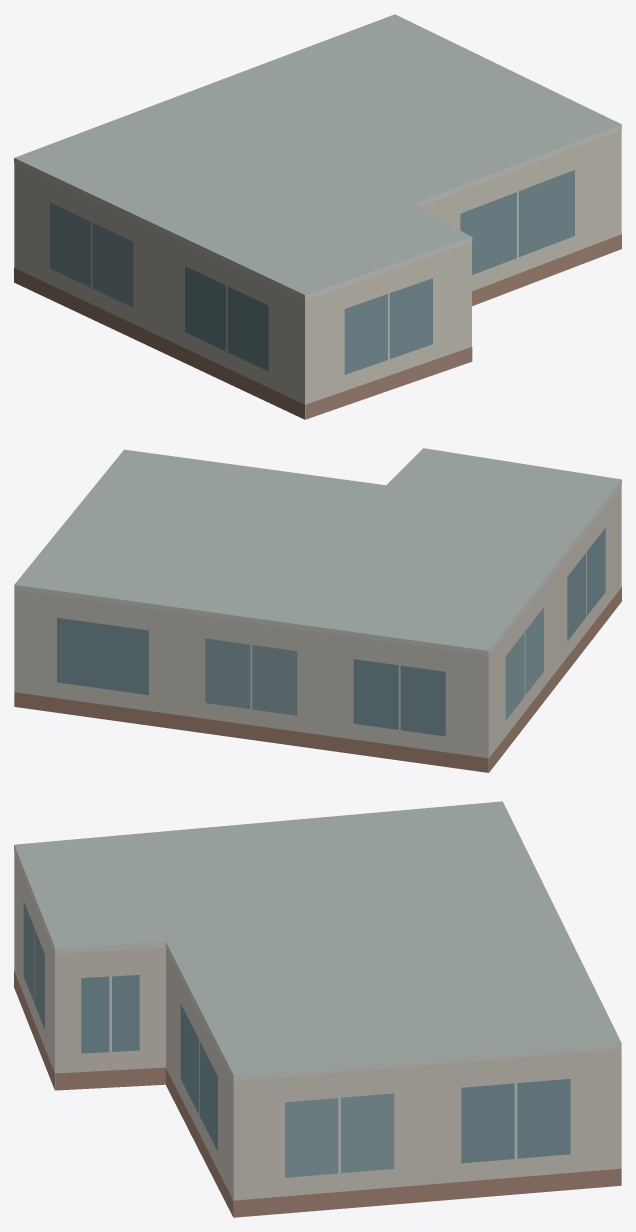
Rendered from survey-upis-33010812.glb.
The picture shows the model from 3 angles, top to bottom: view 1: azimuth 30°, elevation 25°; view 2: azimuth 150°, elevation 25°; view 3: azimuth 270°, elevation 25°; orthographic projection. The views are drawn at different scales.
Parts seen in each view (by area): view 1: survey-upis-33010812.tmp; view 2: survey-upis-33010812.tmp; view 3: survey-upis-33010812.tmp.
Boxes of the visible parts, x1,y1,x2,y2 form: survey-upis-33010812.tmp: (14, 14, 621, 419); survey-upis-33010812.tmp: (14, 448, 621, 772); survey-upis-33010812.tmp: (14, 801, 621, 1217).
Bounding box in the file's own units: 12.57 × 3.05 × 11.79.
